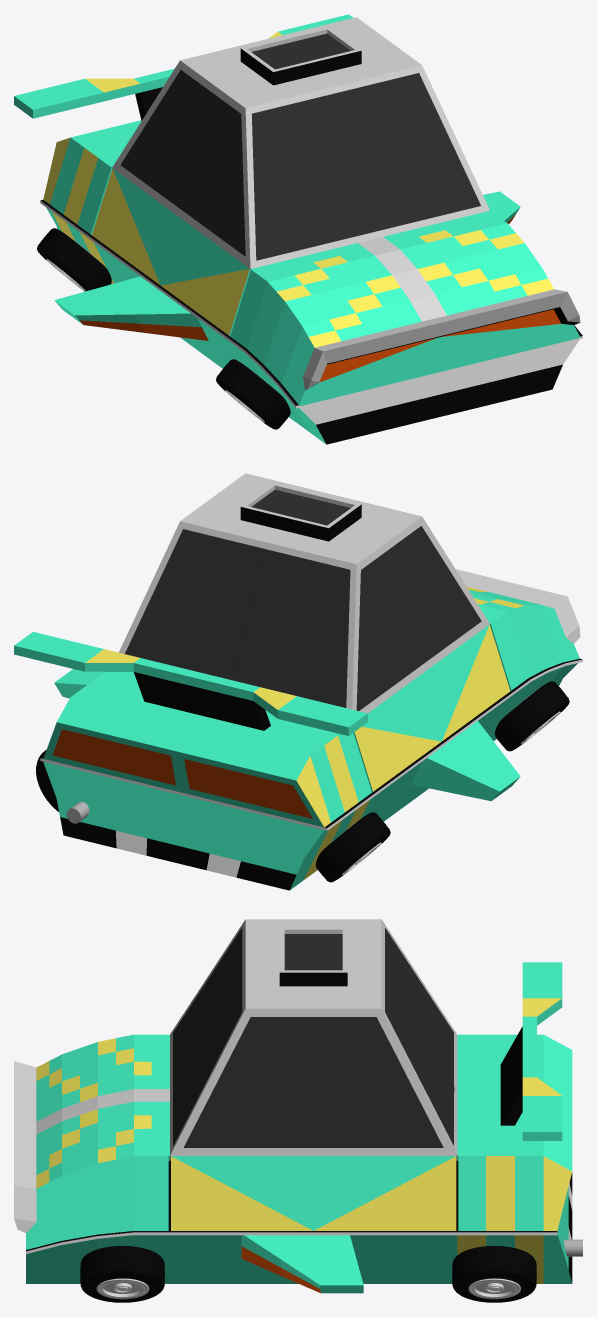
3 views of the same model, one above another, from view 1: azimuth 30°, elevation 25°; view 2: azimuth 150°, elevation 25°; view 3: azimuth 270°, elevation 25° (orthographic). The views are drawn at different scales.
Parts seen in each view (by area): view 1: Body50B, WHEEL.002, WHEEL.003; view 2: Body50B, WHEEL.003, WHEEL.002, WHEEL.001; view 3: Body50B, WHEEL.001, WHEEL.004.
Part boxes in pixels (<box>): Body50B: <box>14,14,582,444</box>; WHEEL.002: <box>216,359,290,429</box>; WHEEL.003: <box>37,228,111,291</box>; Body50B: <box>14,473,582,890</box>; WHEEL.003: <box>315,812,390,882</box>; WHEEL.002: <box>495,681,569,751</box>; WHEEL.001: <box>36,750,58,811</box>; Body50B: <box>14,919,572,1293</box>; WHEEL.001: <box>452,1246,536,1302</box>; WHEEL.004: <box>80,1246,164,1302</box>.
Bounding box in the file's own units: 197 × 117 × 209.
